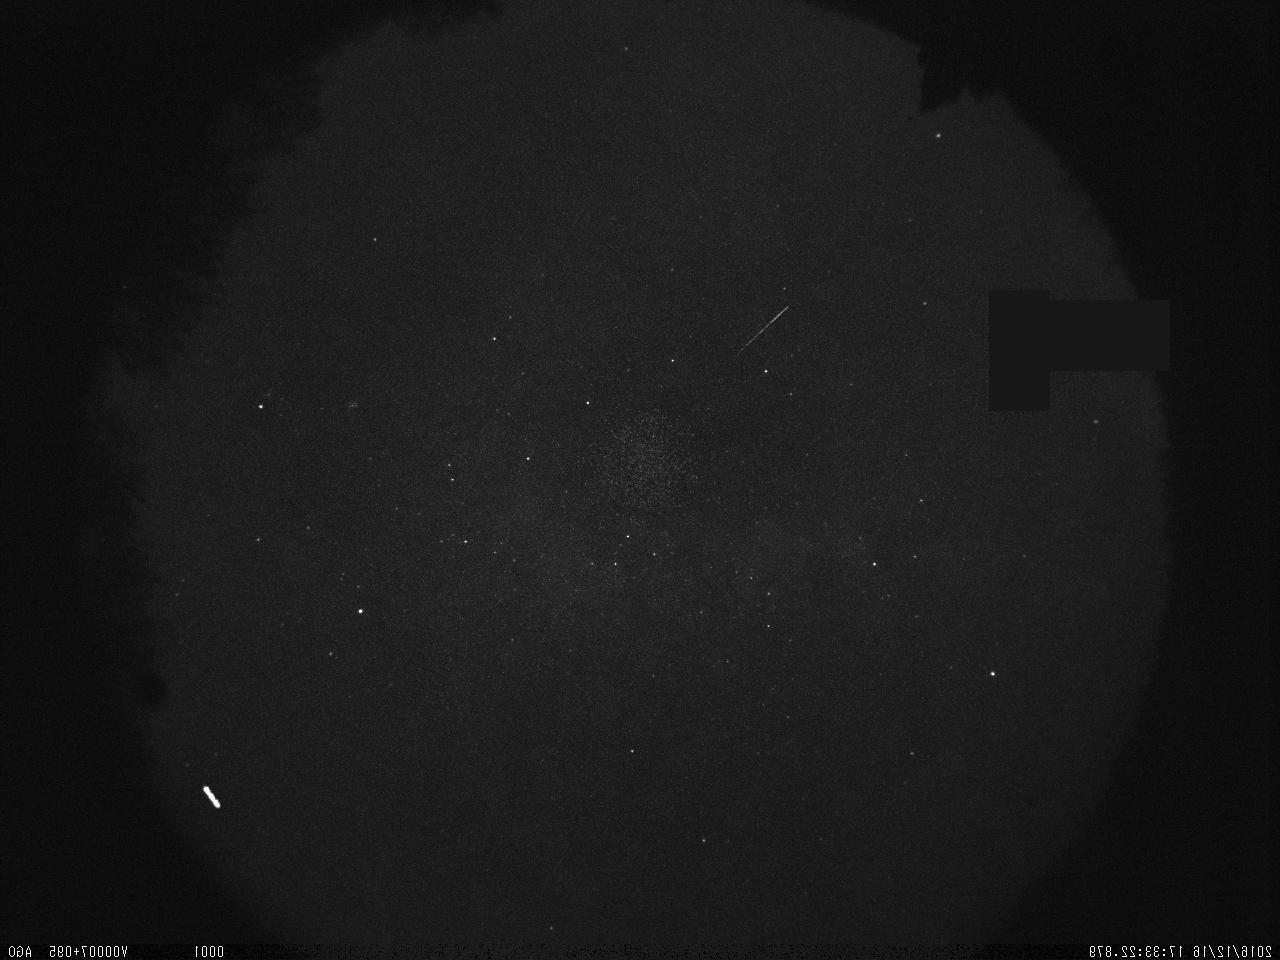meteor: (728, 299, 794, 367)
satelite: (195, 774, 229, 814)
